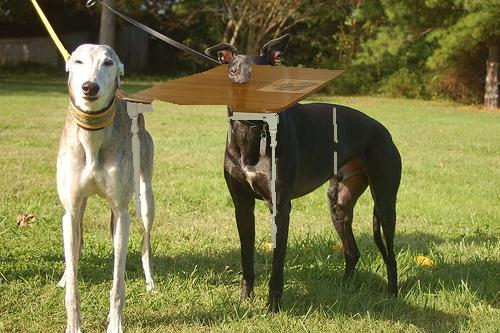tampered: (123, 65, 345, 248)
